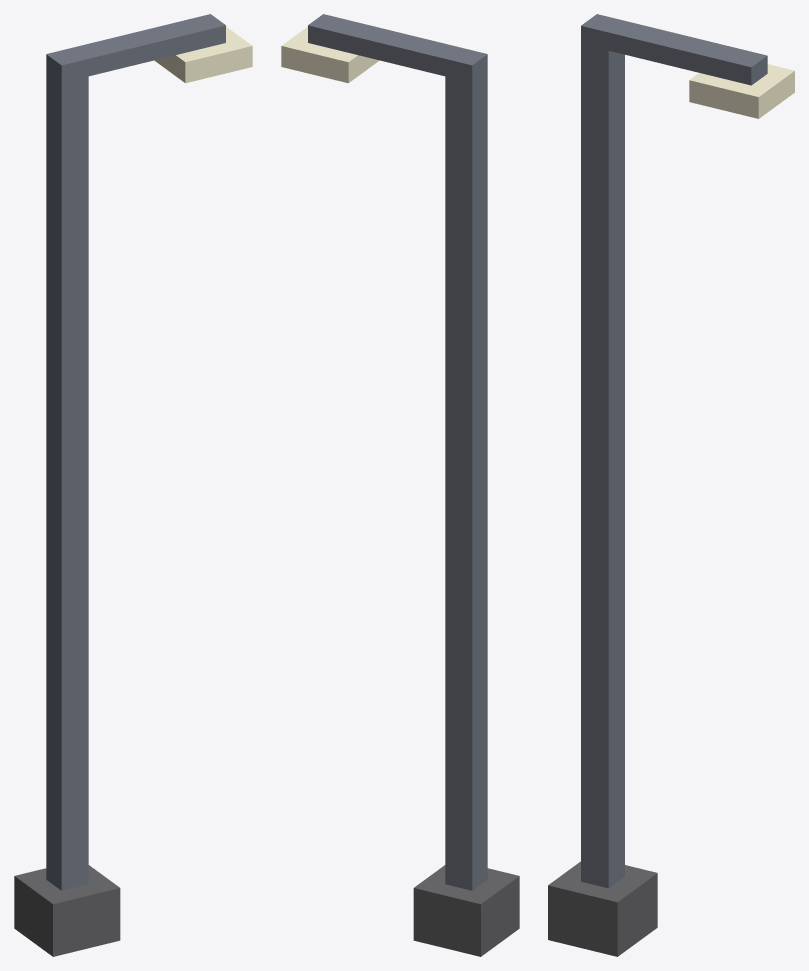
Rendered from Farola.obj.
3 renders of one model, left to right at view 1: azimuth 30°, elevation 25°; view 2: azimuth 150°, elevation 25°; view 3: azimuth 330°, elevation 25°, orthographic. The views are drawn at different scales.
Parts seen in each view (by area): view 1: Farola; view 2: Farola; view 3: Farola.
Boxes of the visible parts, x1,y1,x2,y2 form: Farola: (14, 14, 252, 956); Farola: (281, 14, 519, 956); Farola: (548, 14, 794, 956).
Bounding box in the file's own units: 1.2 × 5 × 0.4.
1 material, 1 textured.
